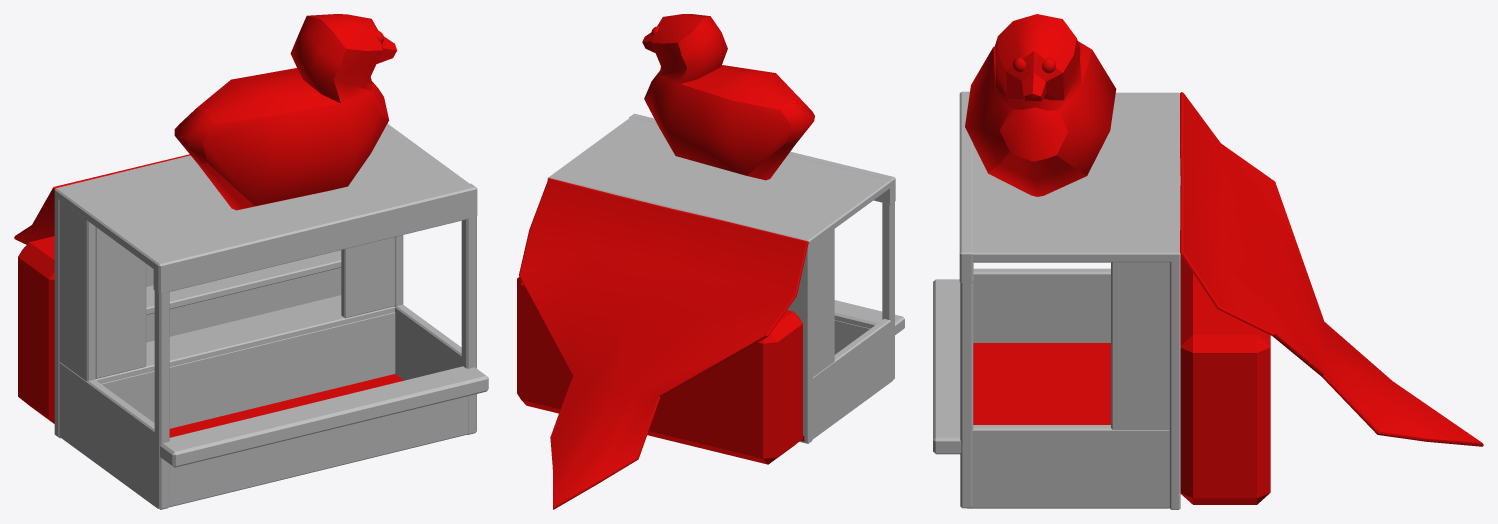
Rendered from Target_Shooting_final.fbx.
3 views of the same model, side by side, from view 1: azimuth 30°, elevation 25°; view 2: azimuth 150°, elevation 25°; view 3: azimuth 270°, elevation 25° (orthographic). The views are drawn at different scales.
Visible parts, largest first — view 1: pCube4, Roof, pasted__Frontwalldown, Frontwalldown, Frontwallup, counter, Sidewall, Backwall, cover1, shelve3, backbox, pasted__Sidewall (+8 smaller); view 2: Backsleeve, backbox, Roof, pCube4, Sidewall, pasted__Sidewall, Backwall, Pole, counter, Frontwallup, Frontwalldown; view 3: Backsleeve, Roof, pCube4, backbox, Sidewall1, pasted__Roof, Sidewall, pasted__pasted__Sidewall, counter, Pole_2, Backwall, Frontwallup.
Boxes of the visible parts, box(x1,y1,x2,y2) form: pCube4: box(174, 14, 397, 210); Roof: box(54, 123, 469, 268); pasted__Frontwalldown: box(101, 312, 395, 428); Frontwalldown: box(169, 396, 468, 507); Frontwallup: box(153, 183, 477, 293); counter: box(160, 366, 488, 467); Sidewall: box(59, 362, 158, 508); Backwall: box(54, 191, 341, 438); cover1: box(95, 227, 146, 378); shelve3: box(95, 295, 394, 383); backbox: box(18, 236, 54, 423); pasted__Sidewall: box(59, 201, 95, 381); Backsleeve: box(519, 178, 808, 509); backbox: box(517, 277, 802, 464); Roof: box(547, 117, 890, 247); pCube4: box(642, 14, 814, 180); Sidewall: box(812, 319, 892, 439); pasted__Sidewall: box(812, 229, 834, 378); Backwall: box(787, 240, 812, 443); Pole: box(882, 202, 894, 380); counter: box(834, 300, 904, 334); Frontwallup: box(629, 113, 895, 204); Frontwalldown: box(834, 320, 869, 354); Backsleeve: box(1180, 92, 1483, 446); Roof: box(972, 92, 1180, 262); pCube4: box(965, 14, 1116, 196); backbox: box(1180, 255, 1270, 504); Sidewall1: box(967, 425, 1169, 508); pasted__Roof: box(973, 343, 1110, 424); Sidewall: box(973, 268, 1110, 342); pasted__pasted__Sidewall: box(1111, 262, 1169, 429); counter: box(933, 279, 961, 454); Pole_2: box(960, 283, 973, 508); Backwall: box(1169, 255, 1180, 509); Frontwallup: box(959, 91, 973, 282).
Size of the model in its own units: 1.2 by 1.53 by 1.7.
